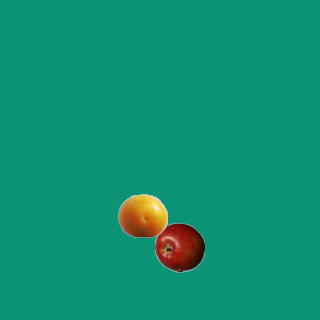Apple Braeburn: (154, 222, 204, 272)
Cherry Wax Yellow: (117, 190, 167, 240)
